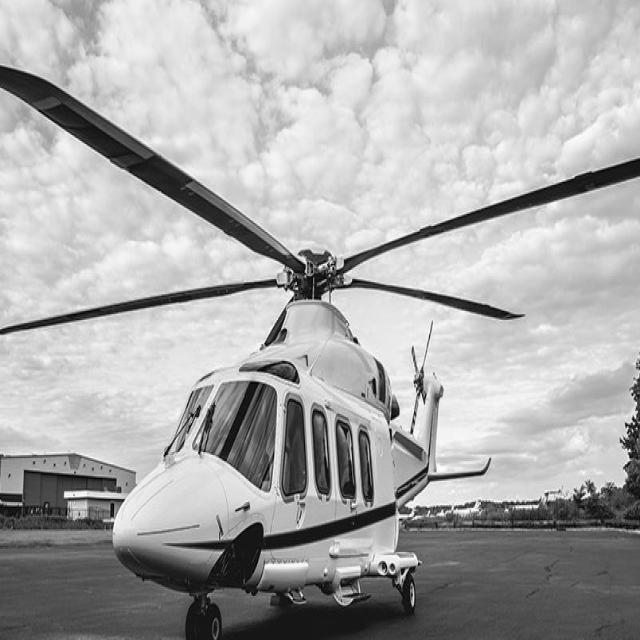helicopter: (1, 64, 640, 628)
